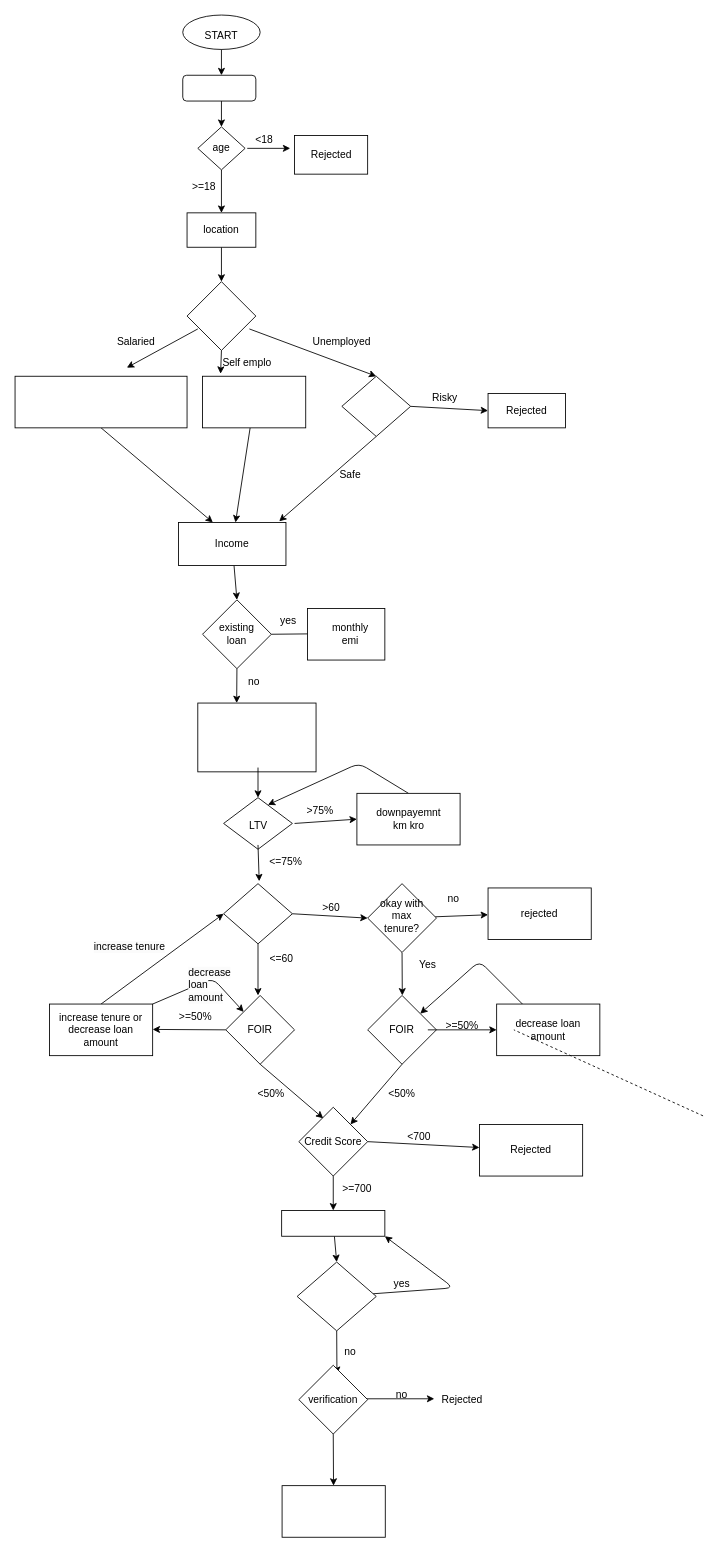
Image size: 719x1552. Some labels were removed from this diagram. The centre of each missing label's shape, as x and y in pixels:
age+ proposed tenure: [257,913]
Approved: [333,1511]
Business type , years ,nature of income: [254,401]
Company/Role/experience: [100,401]
Docs upload: [333,1223]
employm ent type: [221,315]
Income Source: [376,405]
missing?: [336,1296]
Name: [219,87]
requested loan amoun t preferred tenure, property value, down payment: [256,737]
